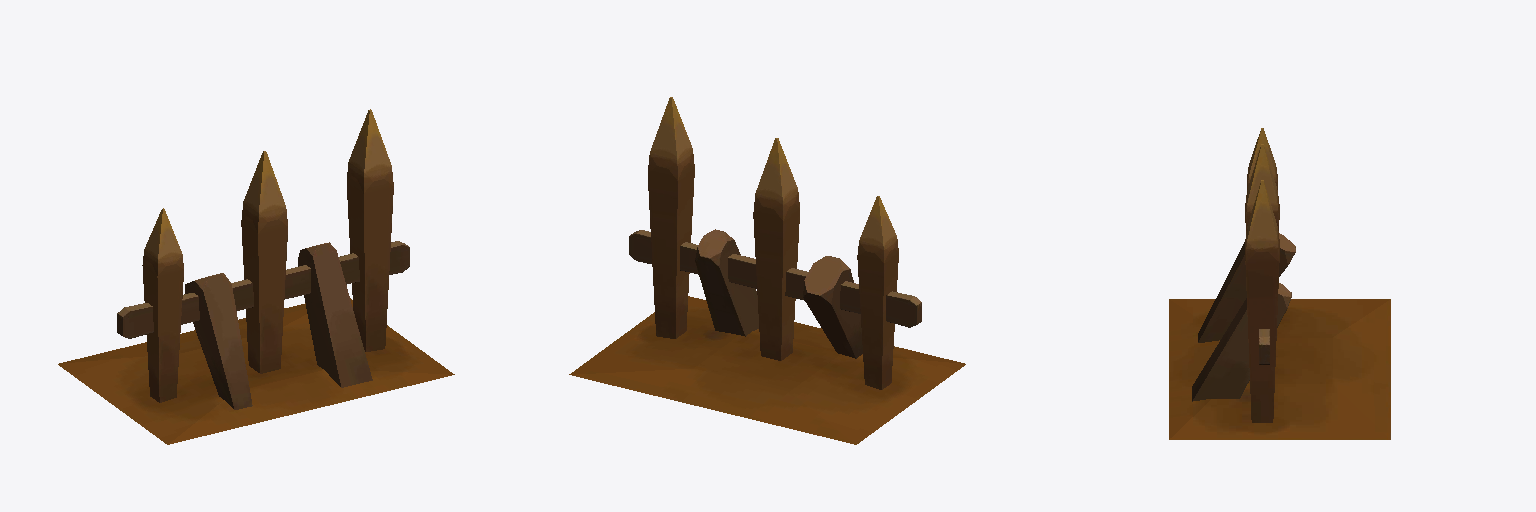
3 views of the same model, side by side, from view 1: azimuth 30°, elevation 25°; view 2: azimuth 150°, elevation 25°; view 3: azimuth 270°, elevation 25° (orthographic).
Visible parts, largest first — view 1: OBJ_Barrier_B_01; view 2: OBJ_Barrier_B_01; view 3: OBJ_Barrier_B_01.
Part boxes in pixels (bbox=[...]): OBJ_Barrier_B_01: bbox=[58, 109, 454, 444]; OBJ_Barrier_B_01: bbox=[569, 97, 965, 444]; OBJ_Barrier_B_01: bbox=[1169, 128, 1390, 439].
Bounding box in the file's own units: 3.6 × 3.03 × 2.4.
Materials: 1 (1 with a texture image).